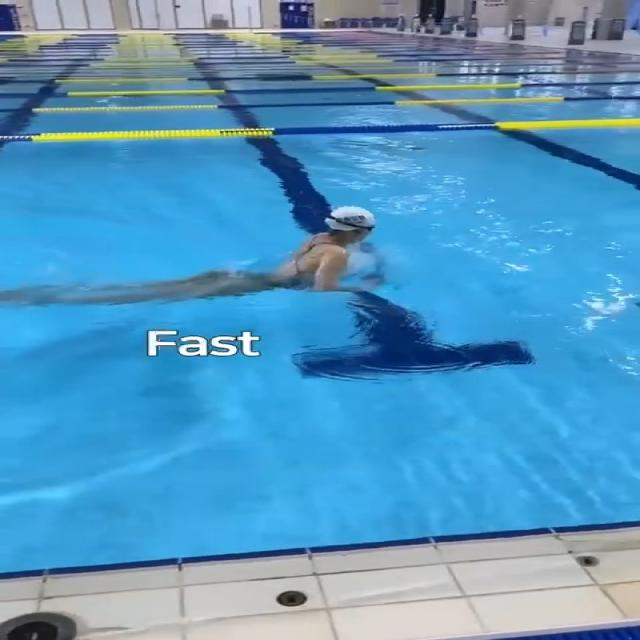Swimming: (0, 201, 411, 317)
